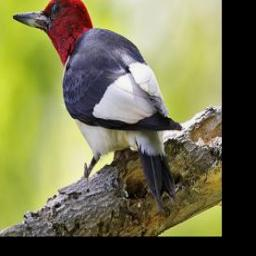Woodpecker: (14, 0, 181, 211)
